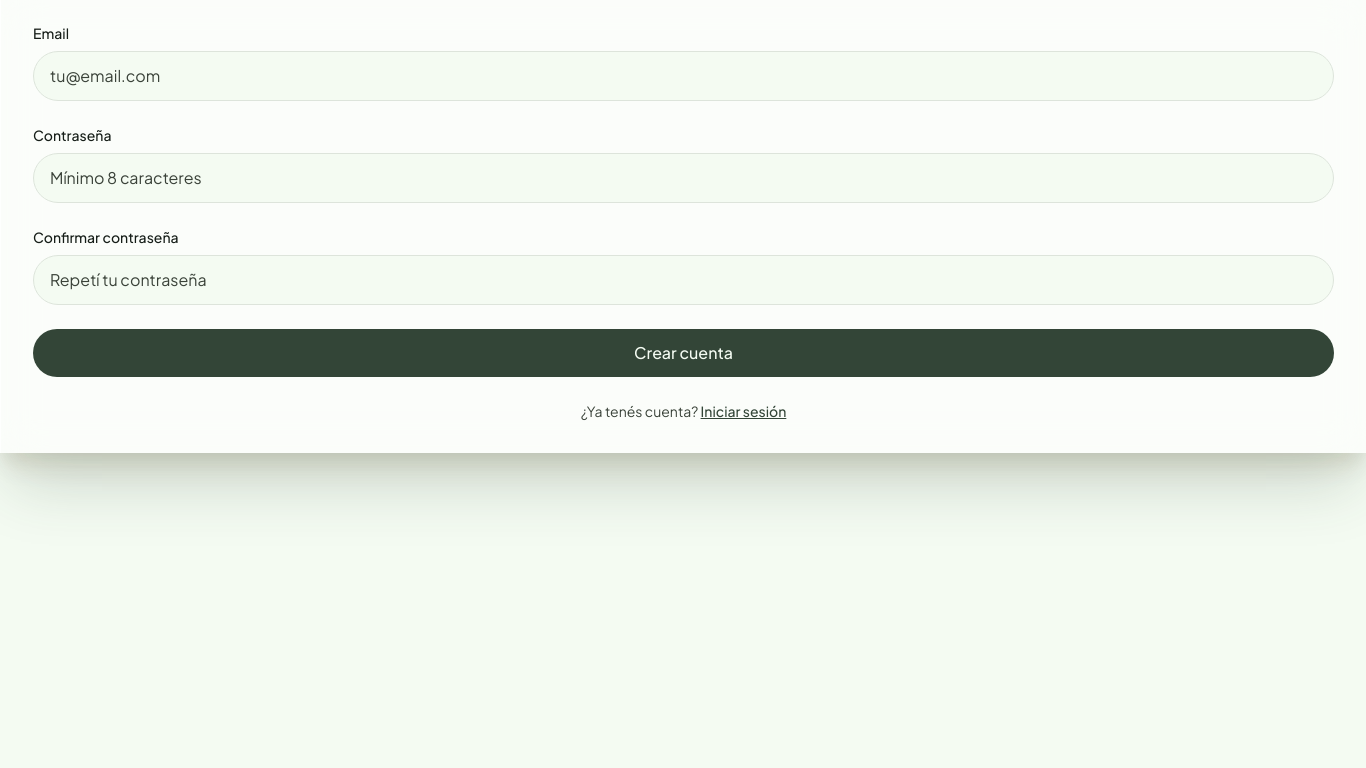
RegisterForm component › shows error when passwords do not match
Type "a@b.com" into the field labelled "Email".
click(684, 76); type("a@b.com")  # box [33,51,1334,101]
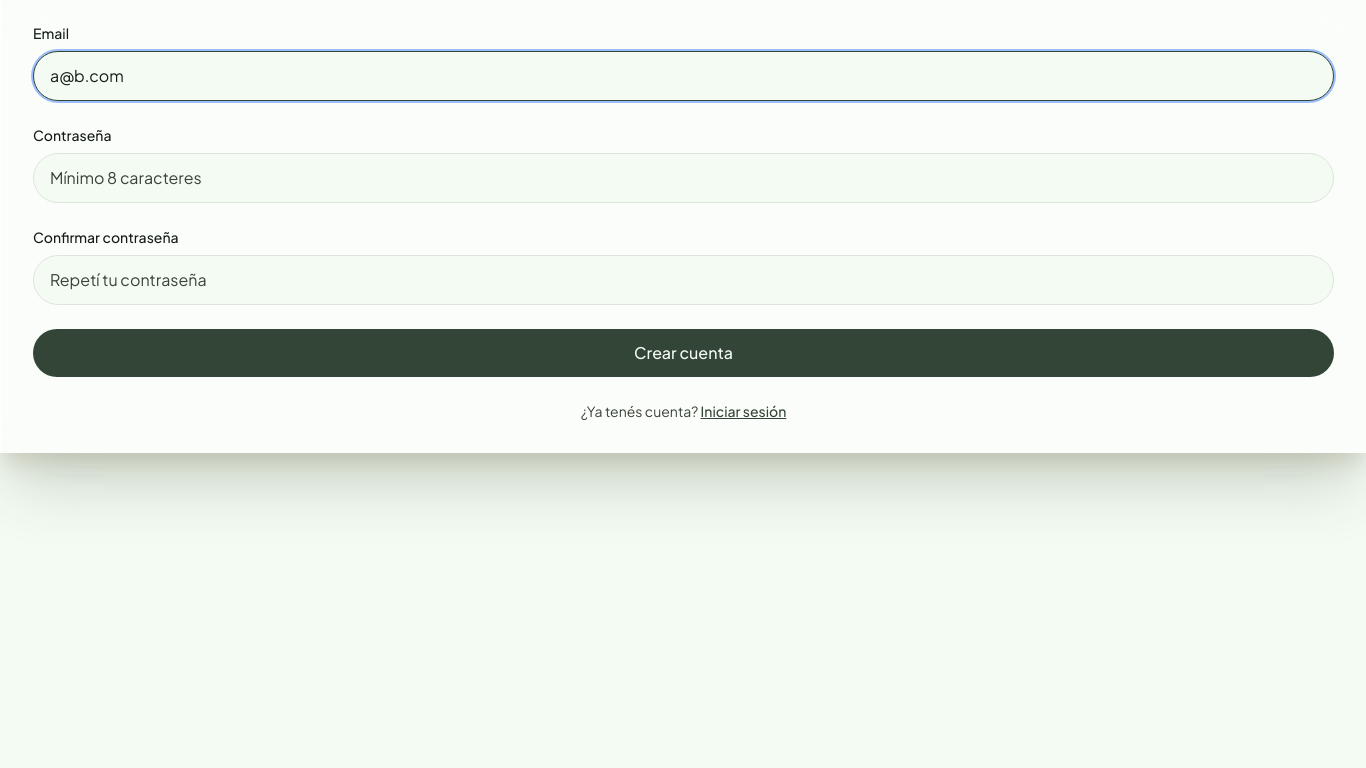
Type "password123" into the password field labelled "Contraseña".
click(684, 178); type("password123")  # box [33,153,1334,203]
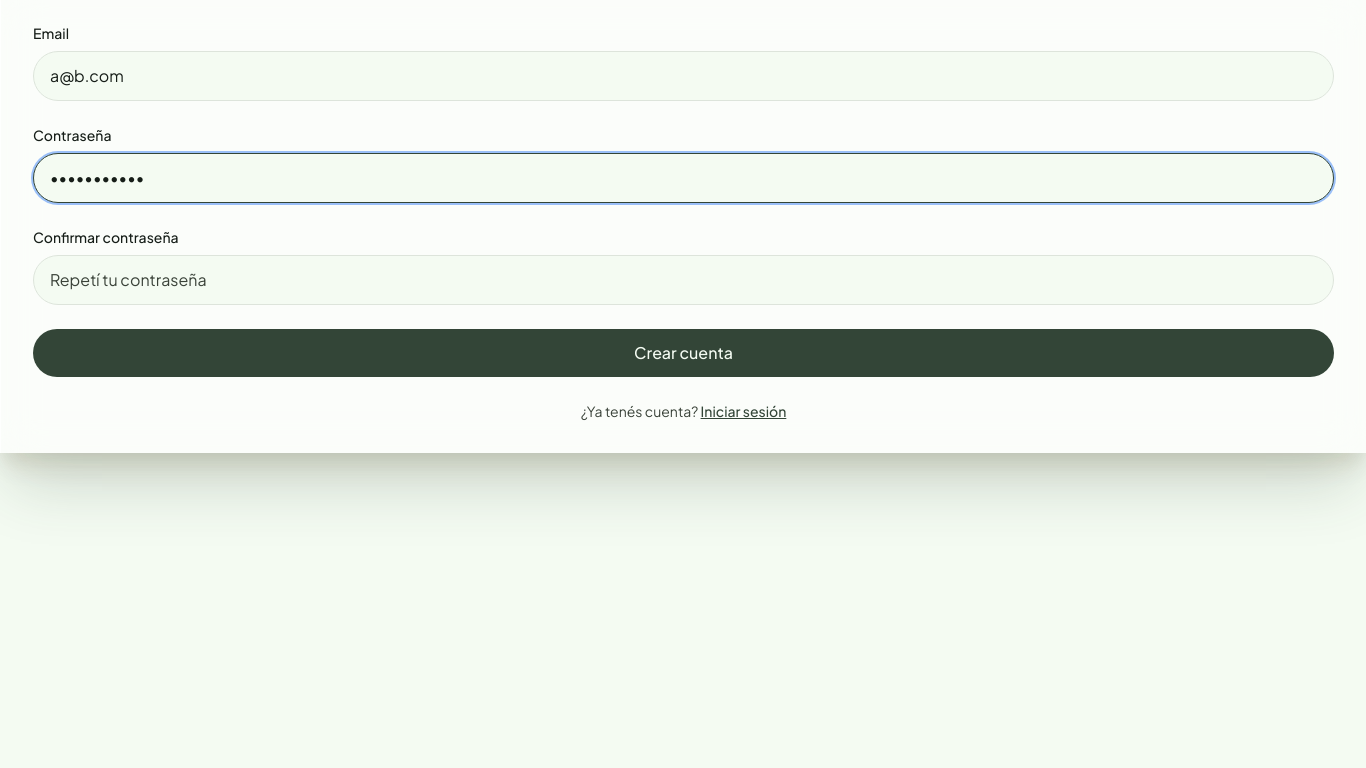
Type "different-password" into the password field labelled "Confirmar contraseña".
click(684, 280); type("different-password")  # box [33,255,1334,305]
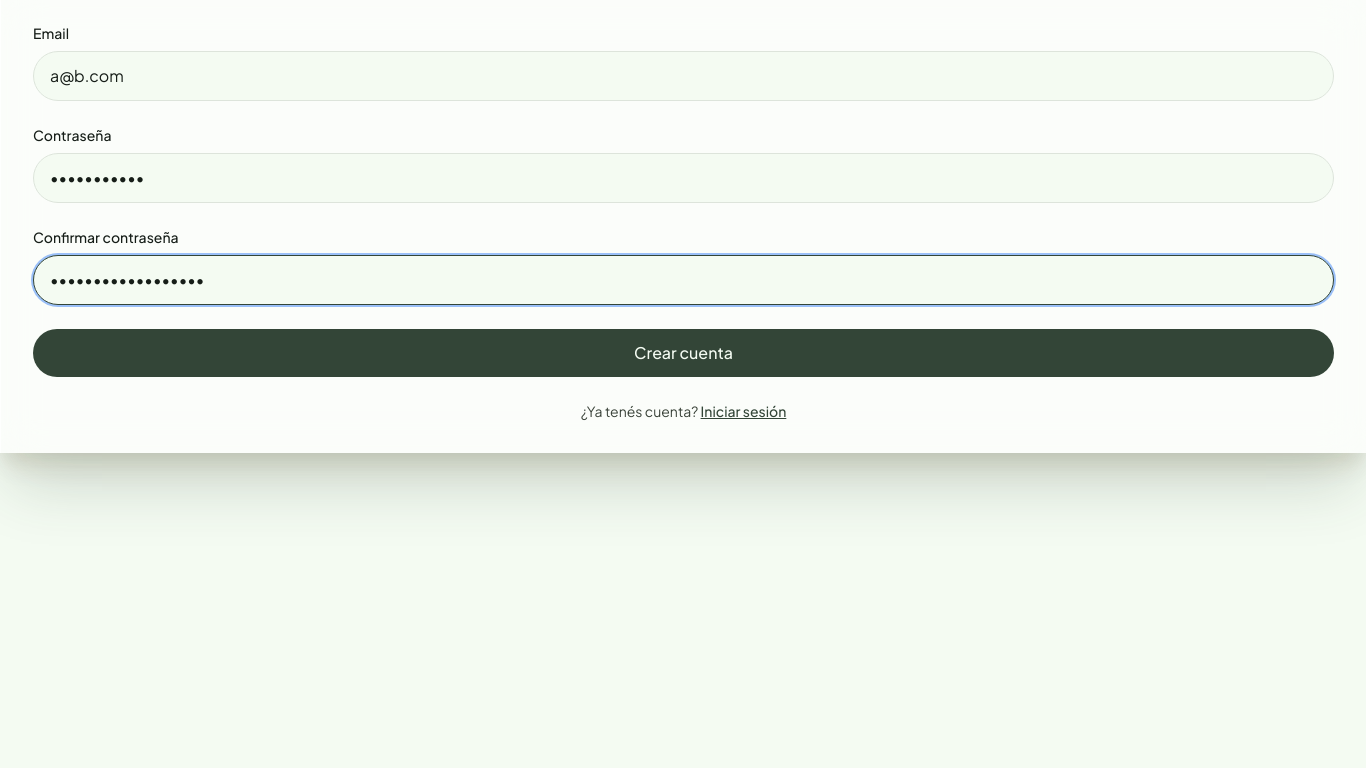
Click the button "Crear cuenta".
click(684, 353)  # box [33,329,1334,377]
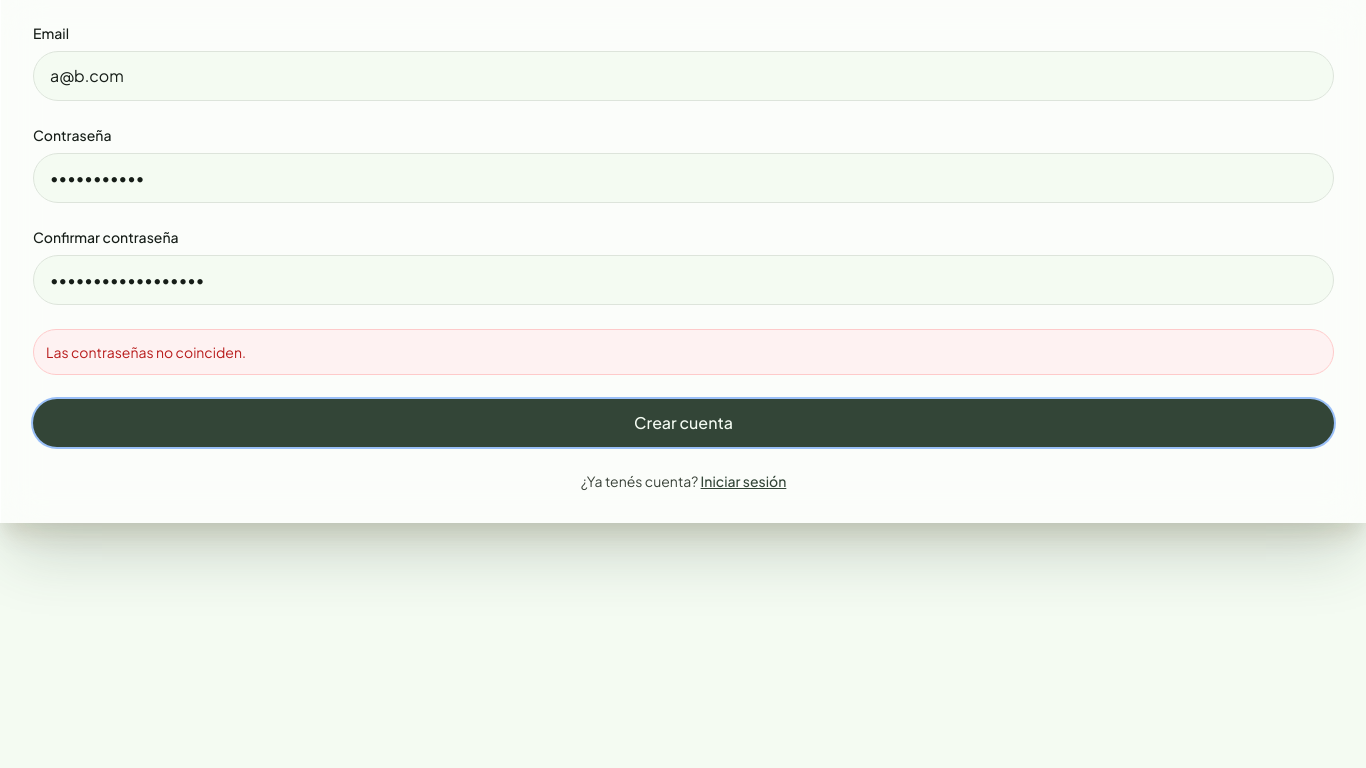
Expected: the text "Las contraseñas no coinciden." is shown, [46,343,246,361]
